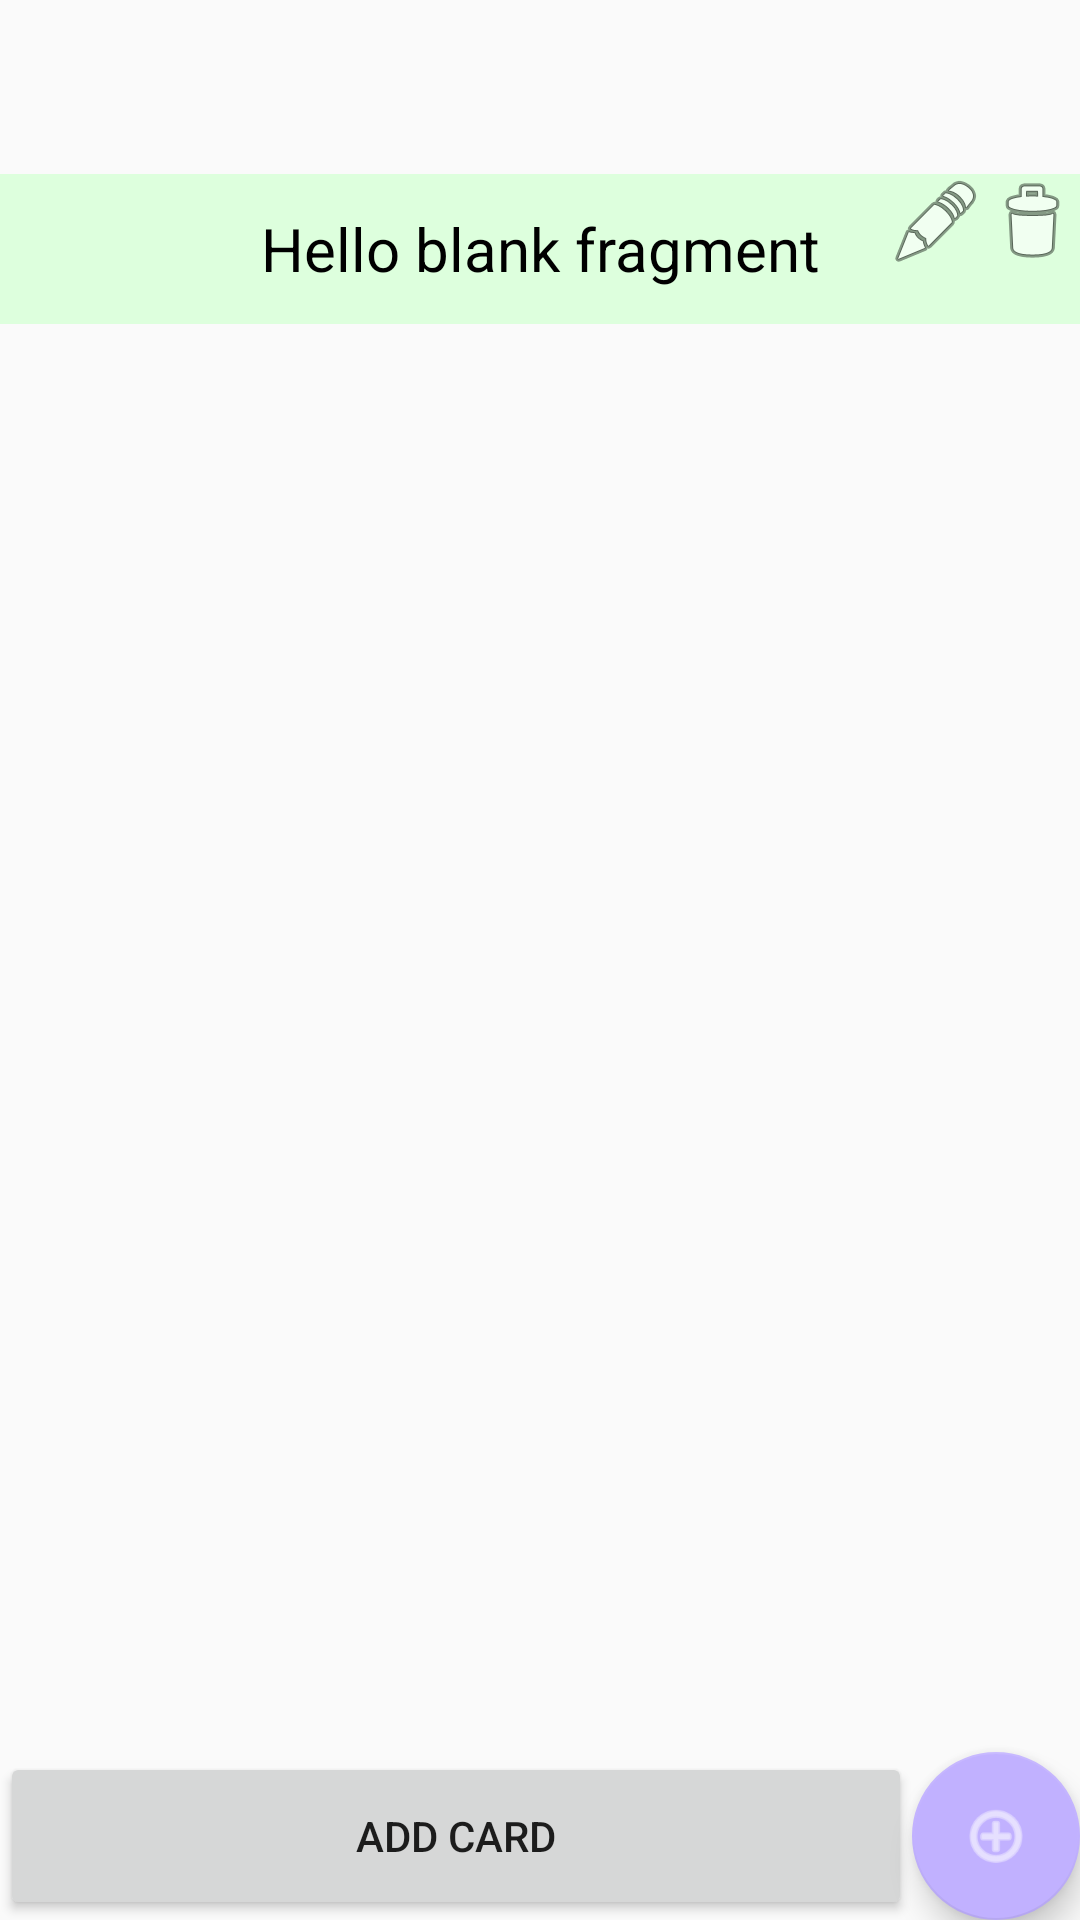

Icon click points for this 1080×1920 phone screenshot, format (x,y):
delete: (1032,220)
edit: (935,221)
